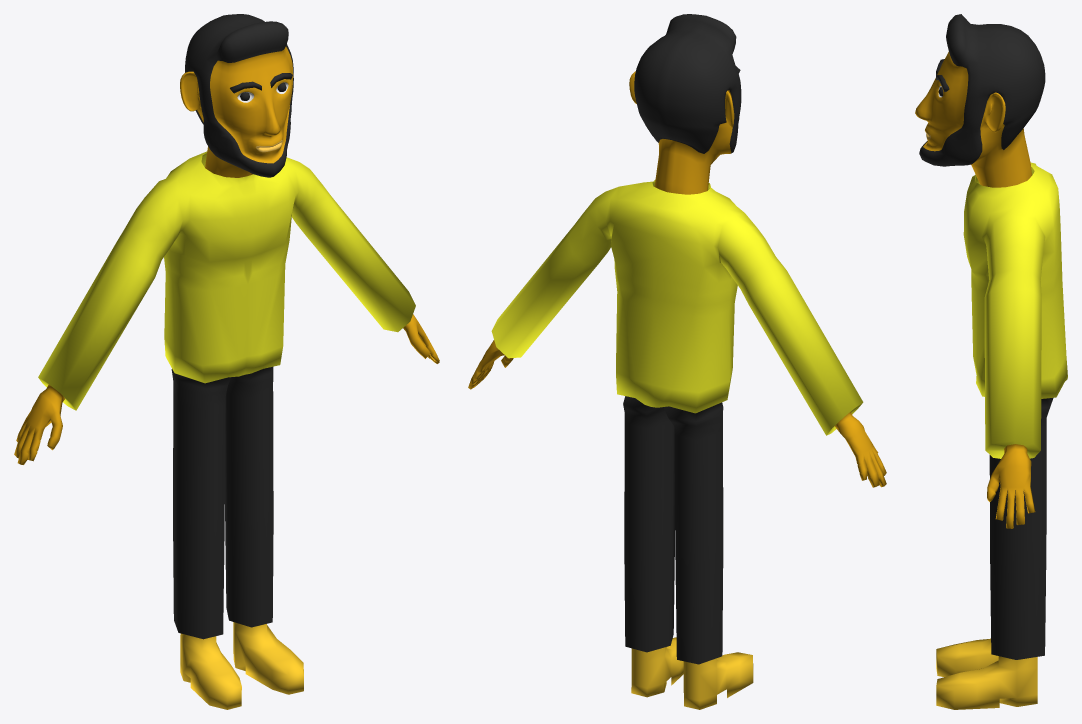
File: Male_2.fbx
3 renders of one model, left to right at view 1: azimuth 30°, elevation 25°; view 2: azimuth 150°, elevation 25°; view 3: azimuth 270°, elevation 25°, orthographic.
Parts seen in each view (by area): view 1: Male_2; view 2: Male_2; view 3: Male_2.
Part boxes in pixels (left/top/right/bottom): Male_2: left=14, top=14, right=439, bottom=709; Male_2: left=468, top=14, right=886, bottom=709; Male_2: left=915, top=14, right=1067, bottom=709.
Bounding box in the file's own units: 115 × 174 × 36.22.
Materials: 1 (1 with a texture image).
